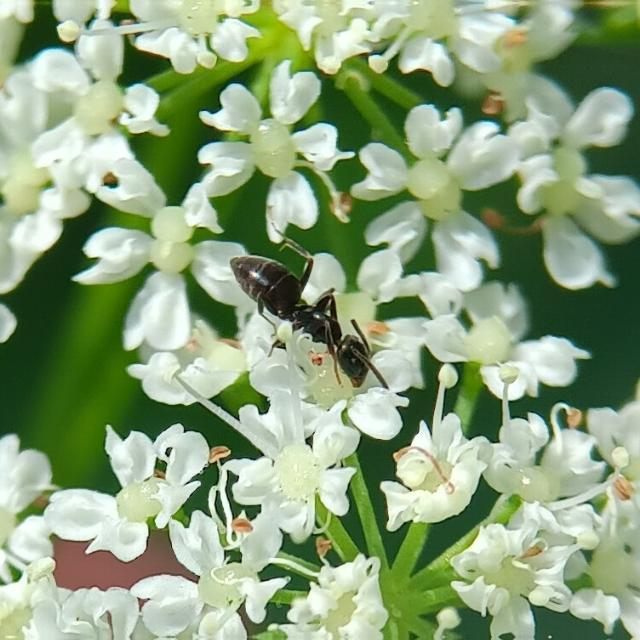Tapinoma: (215, 224, 408, 400)
